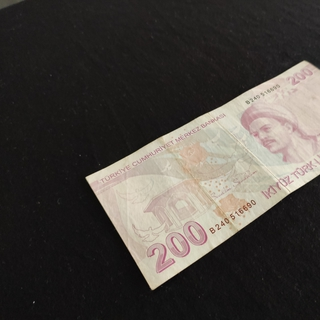200TLBack: (84, 59, 320, 291)
